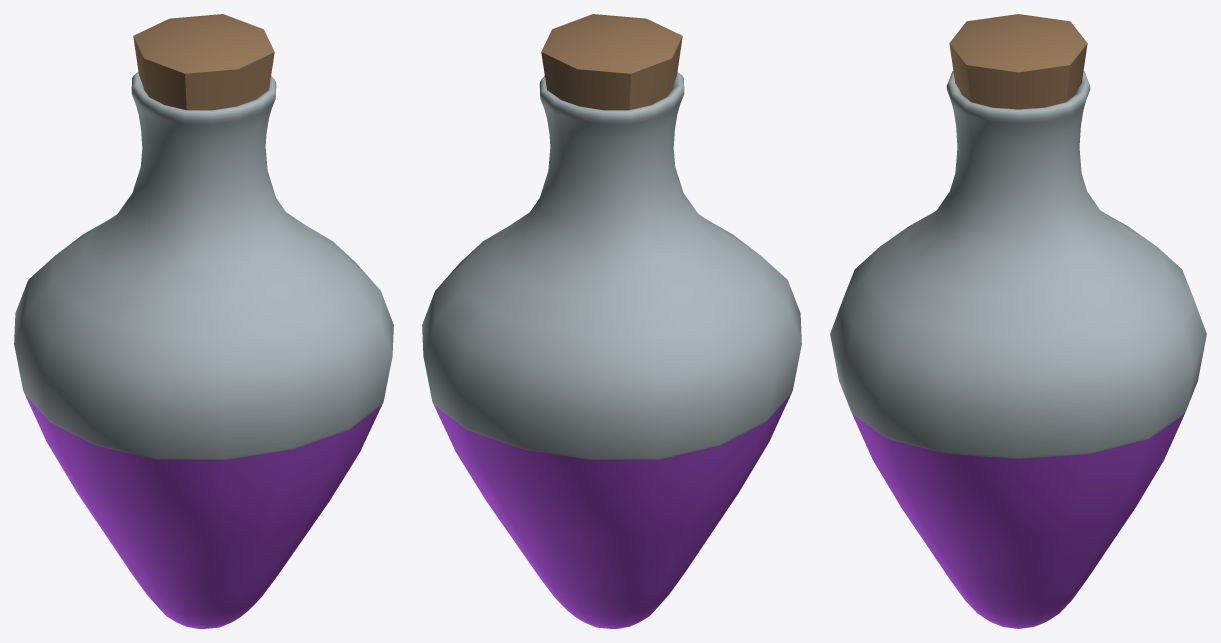
The model's file is potion_violet.glb.
The picture shows the model from 3 angles, left to right: view 1: azimuth 30°, elevation 25°; view 2: azimuth 150°, elevation 25°; view 3: azimuth 270°, elevation 25°; orthographic projection.
Parts seen in each view (by area): view 1: potion_violet; view 2: potion_violet; view 3: potion_violet.
Boxes of the visible parts, x1,y1,x2,y2 form: potion_violet: (14, 14, 393, 628); potion_violet: (422, 14, 801, 628); potion_violet: (830, 14, 1206, 628).
Size of the model in its own units: 0.1395 by 0.24 by 0.1395.
